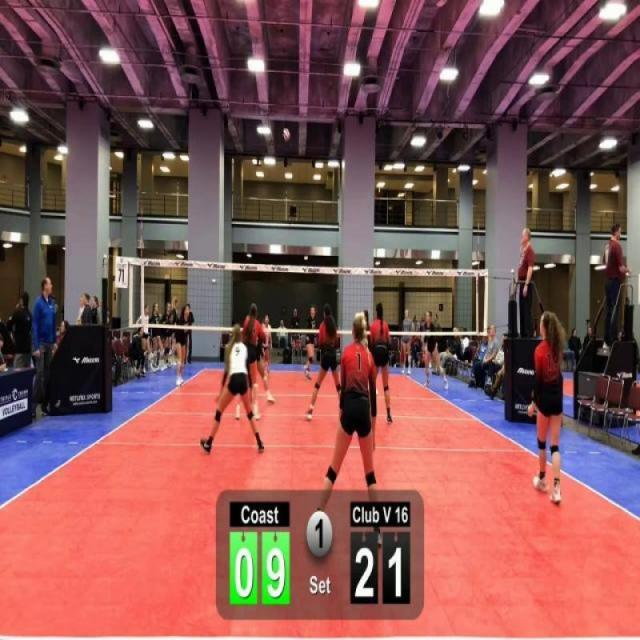volleyball: (281, 125, 292, 144)
